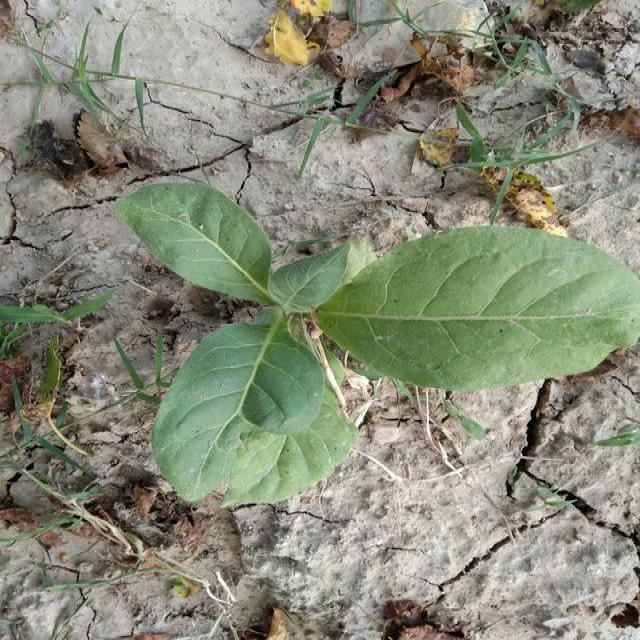crop: (115, 170, 640, 505)
